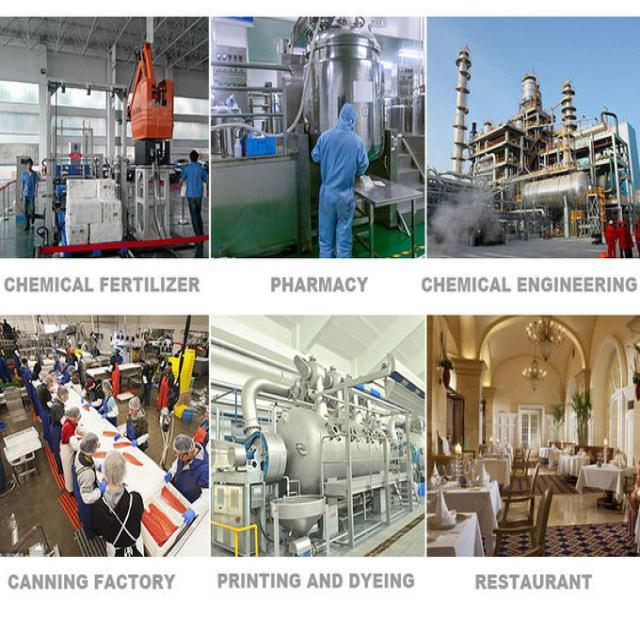Smoke: (428, 183, 500, 258)
